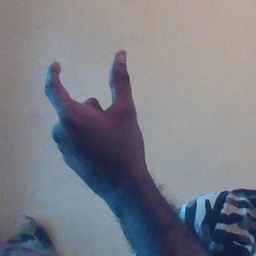U: (35, 42, 153, 170)
